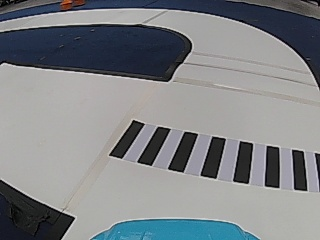CrossWalk: (108, 118, 319, 194)
